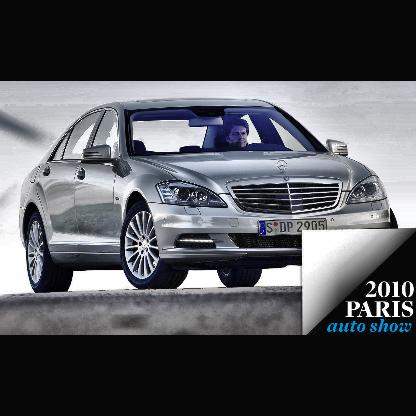Mercedes-Benz S-Class Sedan 2012: (19, 97, 400, 295)
